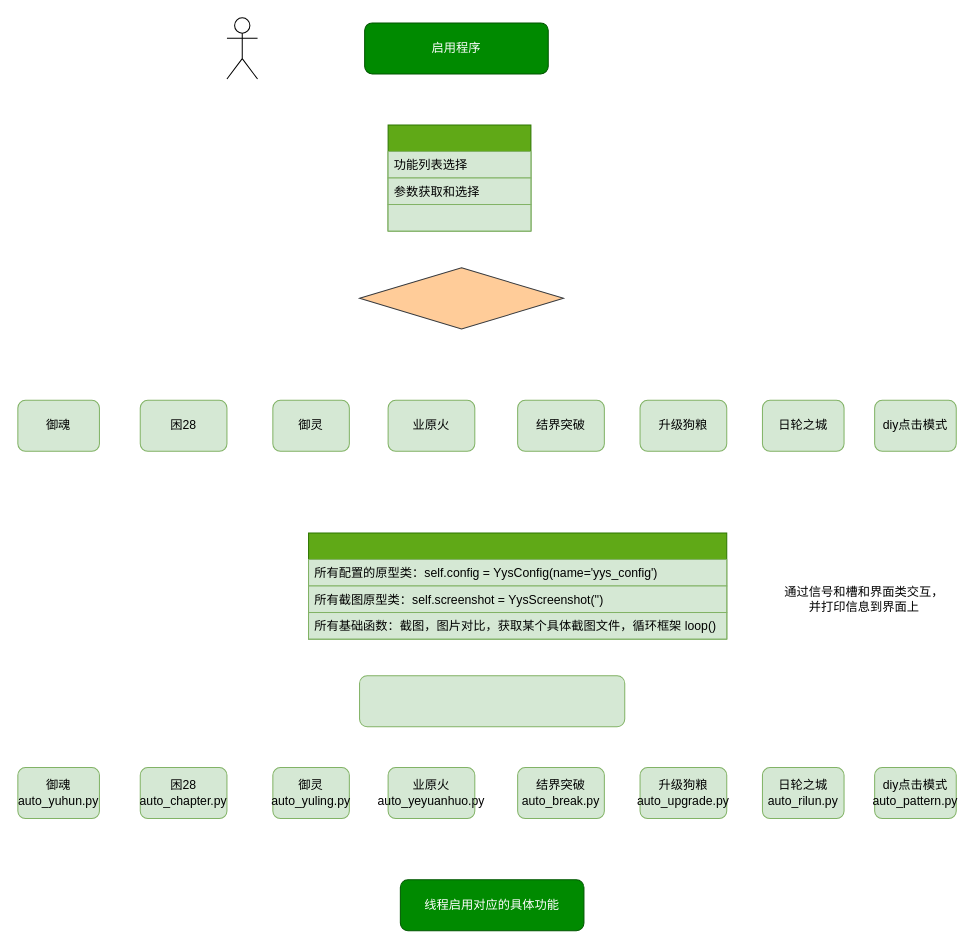
The diagram is 975 pixels wide and 949 high, and some of its shapes have lost their labels. The box of each missing label's shape, as (x1, y1, x2, y2) in pixels:
基类autogui.py: (308, 532, 727, 639)
派生出具体功能，初始化每个具体功能的特殊变量，特殊截图及其回调函数: (359, 675, 625, 727)
用户: (226, 17, 258, 79)
界面类mainwin.py: (387, 124, 531, 231)
选择并启用功能？: (359, 267, 564, 329)
